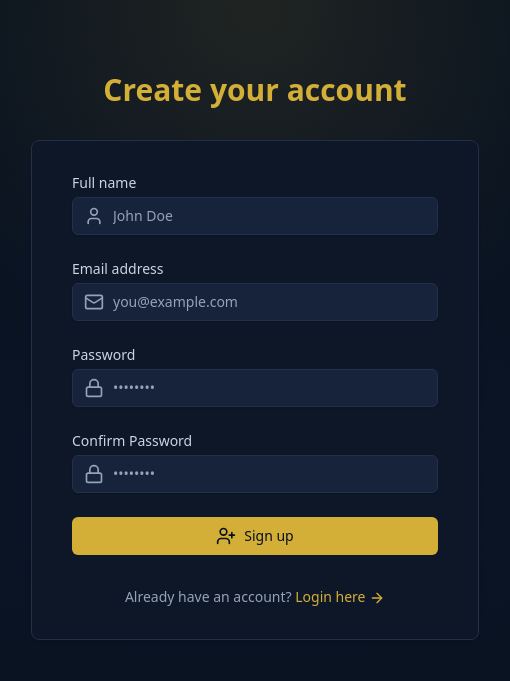
Test case: SignUp Page Frontend Validation › displays validation error when passwords do not match
Type "Rawda" into the field labelled "Full name" at (255, 216), box [72,197,438,235]
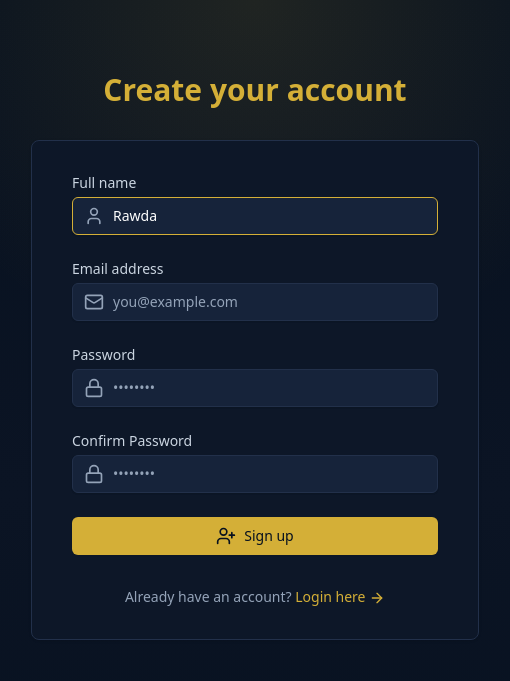
Type "rawda@test.com" into the field labelled "Email address" at (255, 302), box [72,283,438,321]
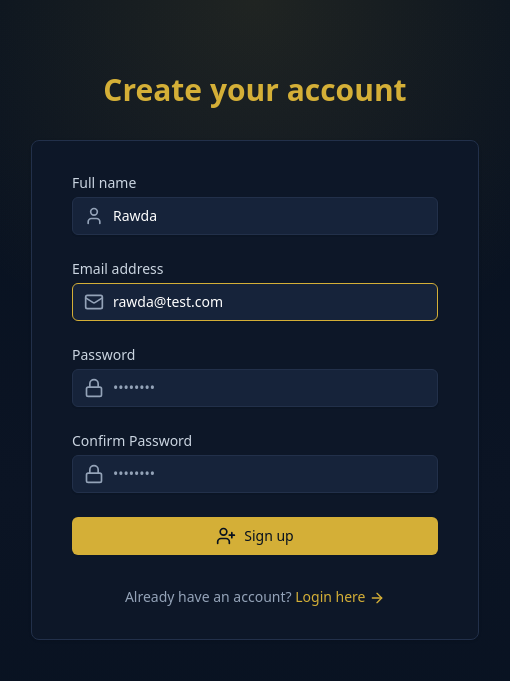
Type "Rawda12345" into the password field labelled "Password" at (255, 388), box [72,369,438,407]
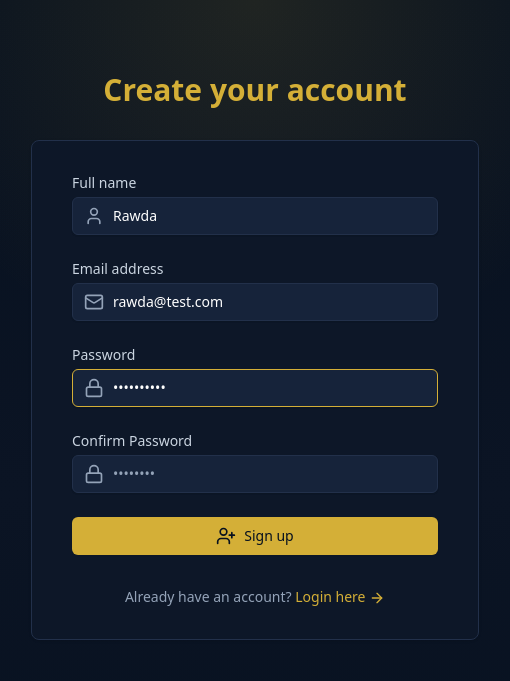
Type "WrongPassword123" into the password field labelled "Confirm Password" at (255, 474), box [72,455,438,493]
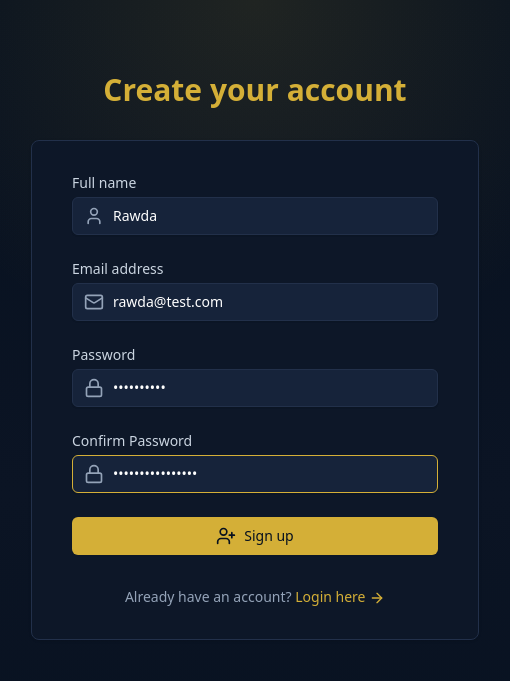
Click the button "Sign up" at (255, 536), box [72,517,438,555]
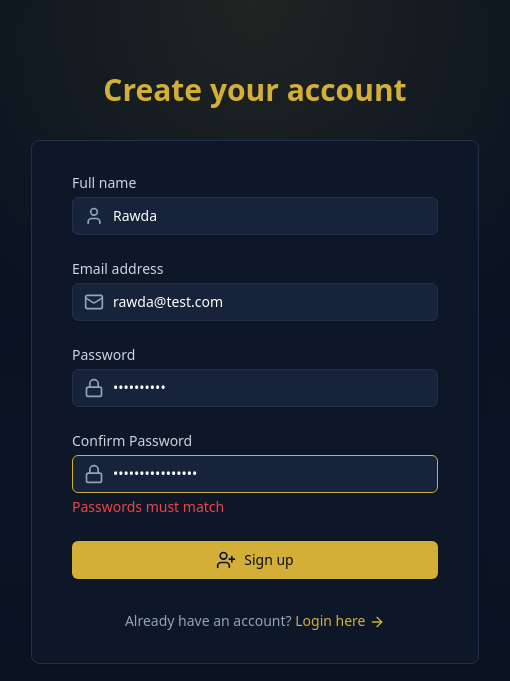
Result: the text "Passwords must match" is shown at [72,497,224,516]
